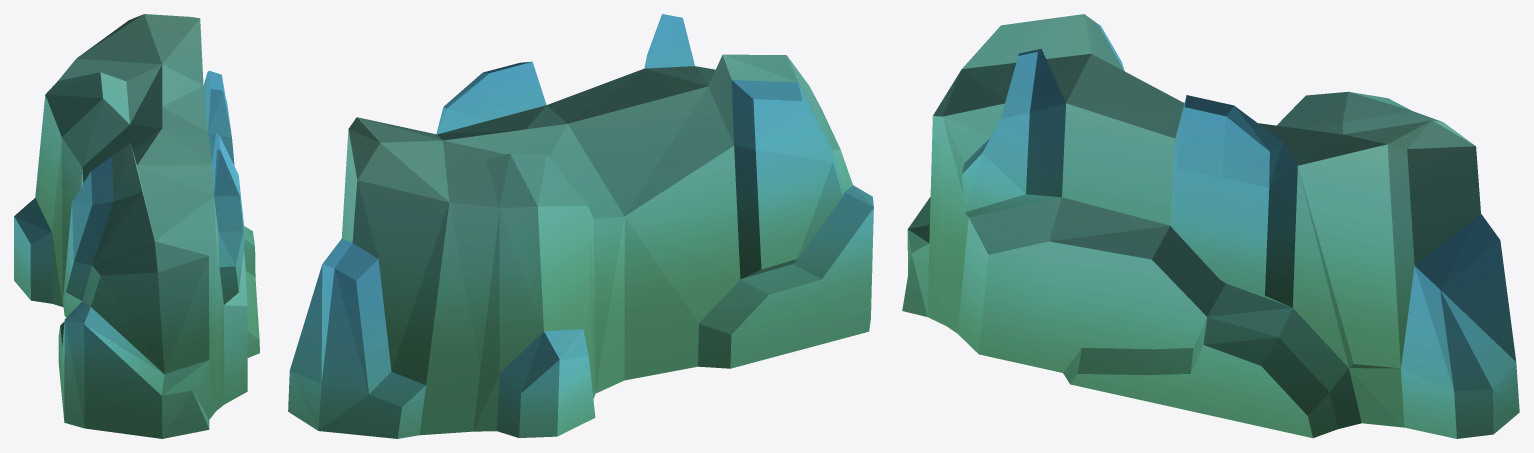
The model's file is 5stone1.obj.
3 renders of one model, left to right at view 1: azimuth 30°, elevation 25°; view 2: azimuth 150°, elevation 25°; view 3: azimuth 270°, elevation 25°, orthographic. The views are drawn at different scales.
Visible parts, largest first — view 1: Cliffc_lush_(3); view 2: Cliffc_lush_(3); view 3: Cliffc_lush_(3).
Part boxes in pixels (x1,y1,x2,y2): Cliffc_lush_(3): [14, 14, 259, 438]; Cliffc_lush_(3): [288, 14, 873, 438]; Cliffc_lush_(3): [902, 14, 1519, 438].
Size of the model in its own units: 9922 by 7344 by 13610.
1 material, 1 textured.
